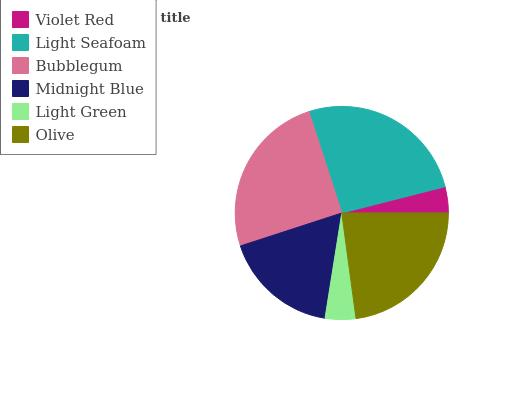legend: (0, 0, 156, 153)
sector: (235, 111, 342, 247), (309, 106, 445, 213), (341, 212, 449, 319), (239, 211, 340, 319), (326, 212, 355, 320), (341, 187, 451, 213)
